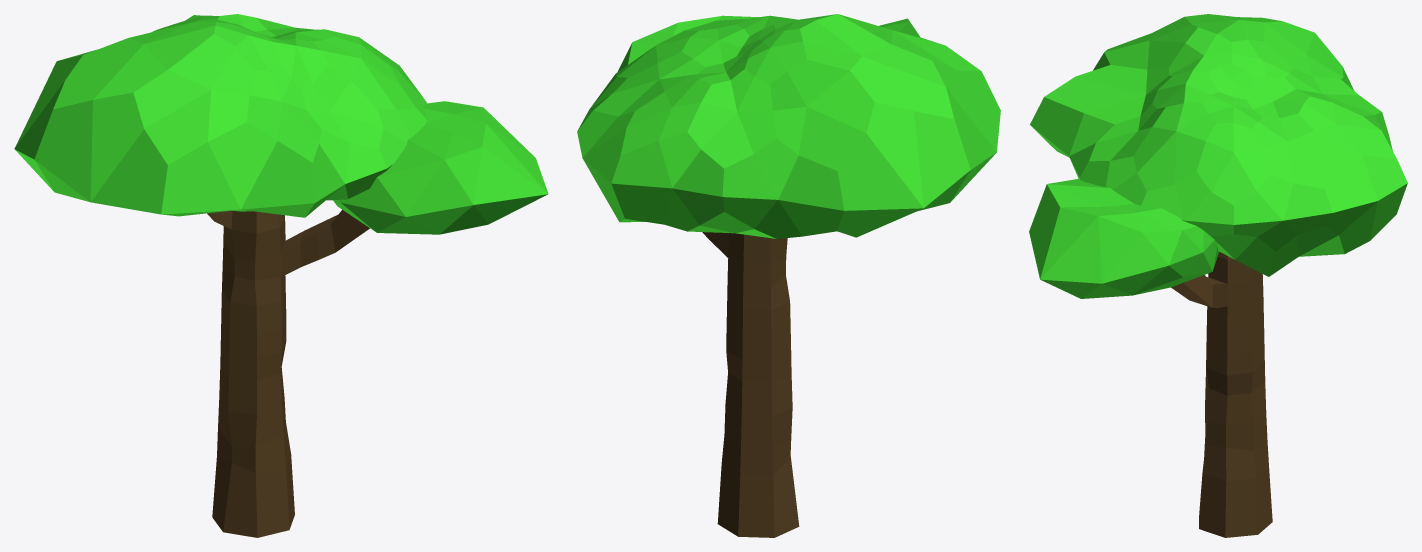
File: tree2.glb
3 views of the same model, side by side, from view 1: azimuth 30°, elevation 25°; view 2: azimuth 150°, elevation 25°; view 3: azimuth 270°, elevation 25° (orthographic). The views are drawn at different scales.
Visible parts, largest first — view 1: Leaves, Trunk, Leaves2; view 2: Leaves, Trunk, Leaves2; view 3: Leaves, Trunk, Leaves2.
Part boxes in pixels (bbox=[...]): Leaves: bbox=[14, 14, 427, 217]; Trunk: bbox=[207, 209, 369, 537]; Leaves2: bbox=[333, 101, 548, 234]; Leaves: bbox=[577, 14, 1000, 238]; Trunk: bbox=[702, 232, 799, 537]; Leaves2: bbox=[617, 15, 759, 71]; Leaves: bbox=[1030, 14, 1407, 276]; Trunk: bbox=[1171, 252, 1272, 537]; Leaves2: bbox=[1029, 178, 1218, 298].
Bounding box in the file's own units: 11.28 × 13.02 × 9.55.
